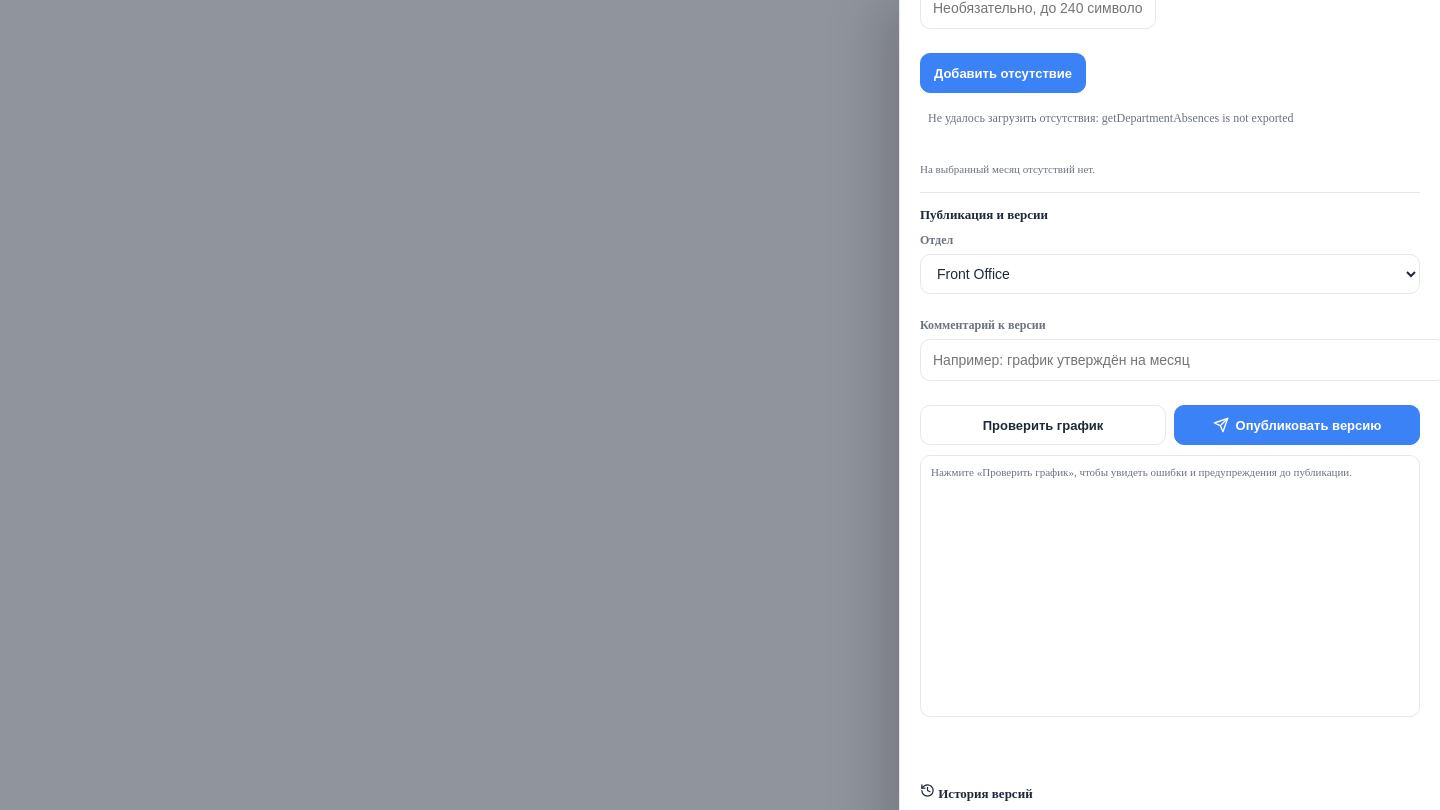
Test: schedule publication controls › shows structured rule context and server-provided hourly FO coverage
The image size is (1440, 810).
(page scrolled)
What coordinates should you click on to do the following:
click the button "Проверить график"
I would click on:
 (1043, 425)
Its box is [920, 405, 1166, 445].
(page scrolled)
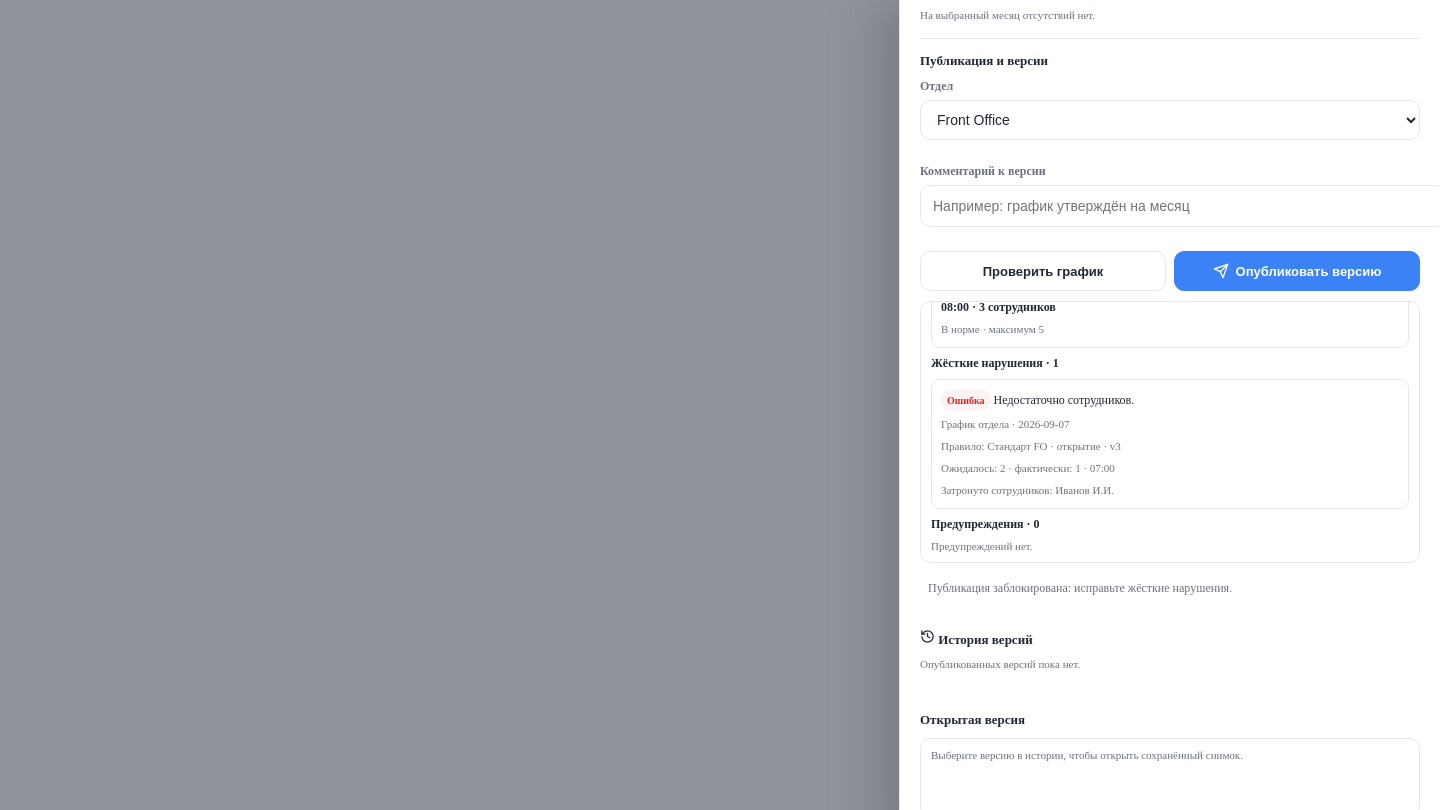
Result: the text "Правило: Стандарт FO · открытие · v3" is shown at [941, 440, 1121, 452]
Result: the text "Ожидалось: 2 · фактически: 1 · 07:00" is shown at [941, 462, 1115, 474]
Result: the text "Затронуто сотрудников: Иванов И.И." is shown at [941, 484, 1114, 496]
